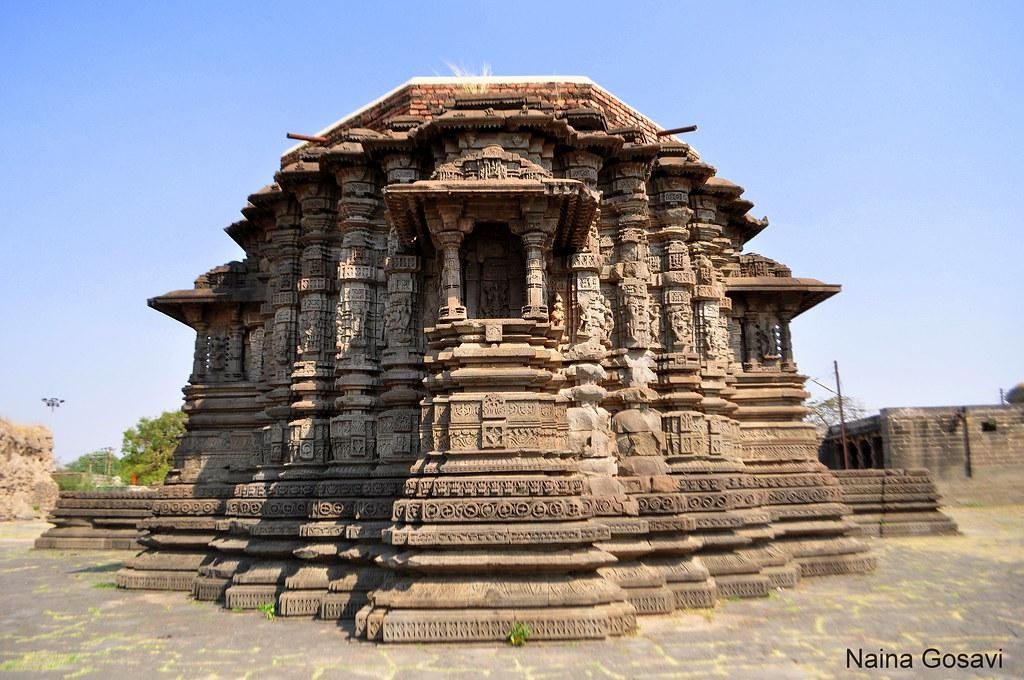temple: (59, 66, 958, 646)
